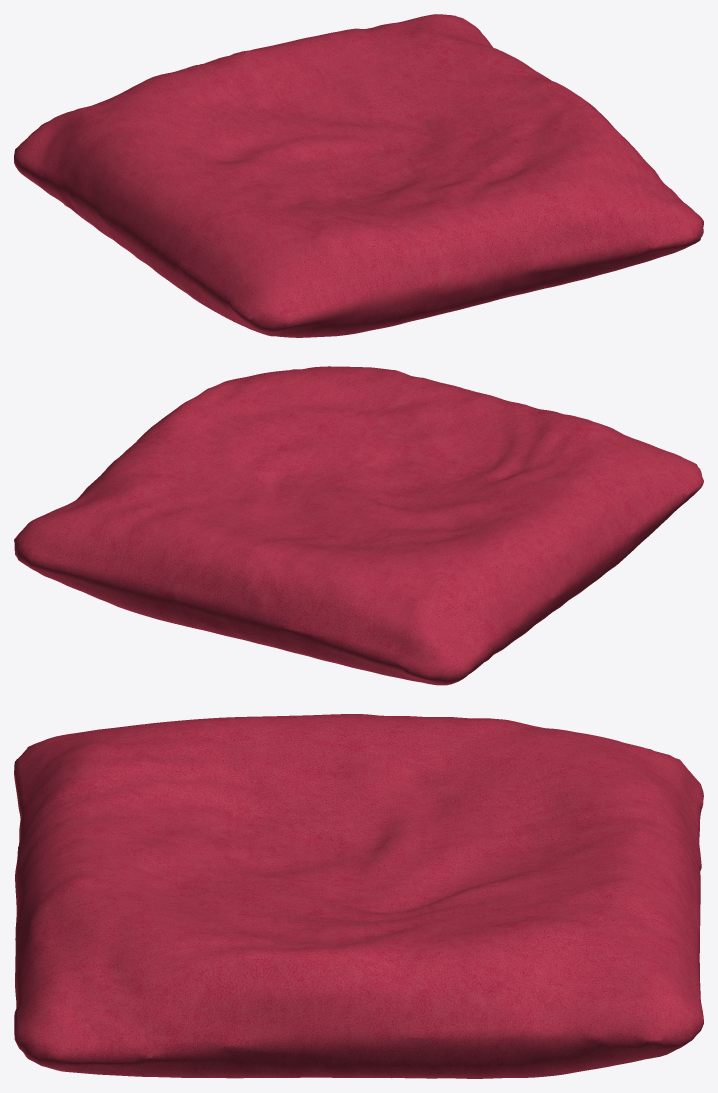
File: Pillow.fbx
The picture shows the model from 3 angles, top to bottom: view 1: azimuth 30°, elevation 25°; view 2: azimuth 150°, elevation 25°; view 3: azimuth 270°, elevation 25°; orthographic projection. The views are drawn at different scales.
Parts seen in each view (by area): view 1: Cube; view 2: Cube; view 3: Cube.
Part boxes in pixels (x1,y1,x2,y2): Cube: [14, 14, 703, 337]; Cube: [14, 366, 703, 685]; Cube: [14, 714, 703, 1078].
Size of the model in its own units: 98.93 by 21.06 by 97.87.
